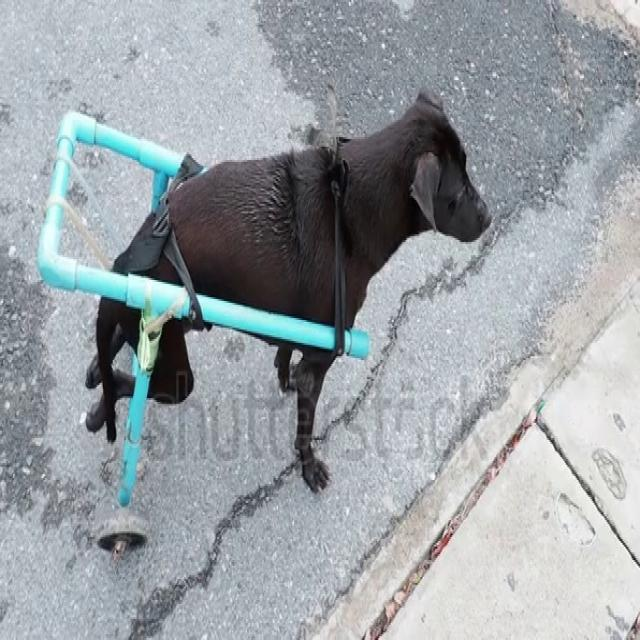injured-animals: (80, 82, 494, 499)
